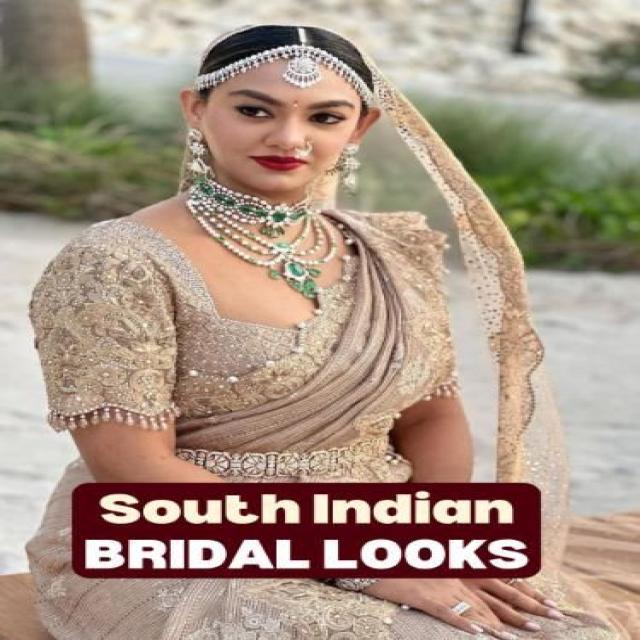Earring: (174, 120, 220, 185), (328, 137, 366, 199)
